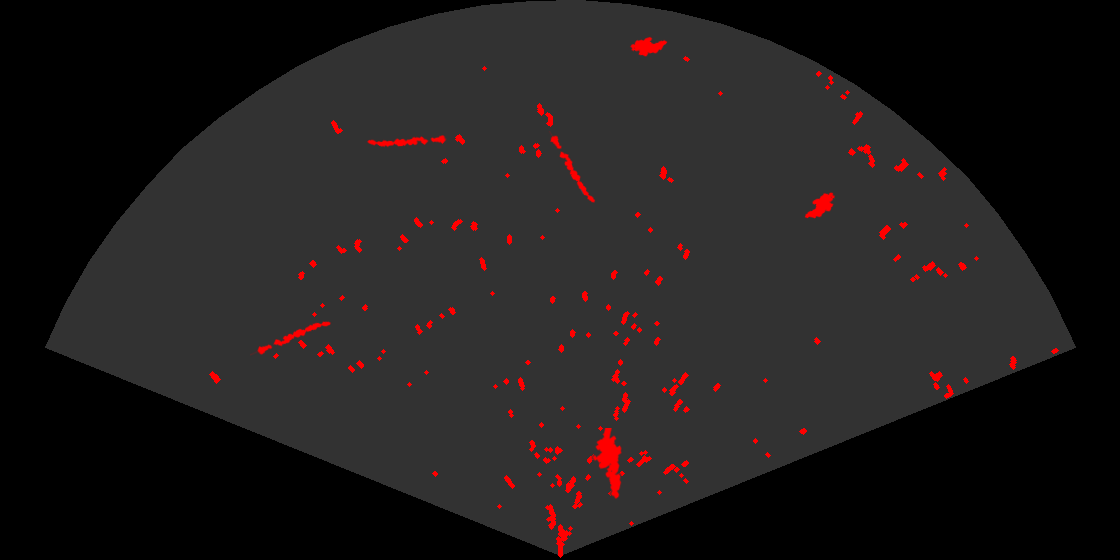AUV: (803, 191, 837, 220), (628, 35, 669, 58)
chain: (547, 131, 597, 204), (250, 320, 333, 357), (365, 134, 447, 149)
frogman: (591, 428, 623, 500)
